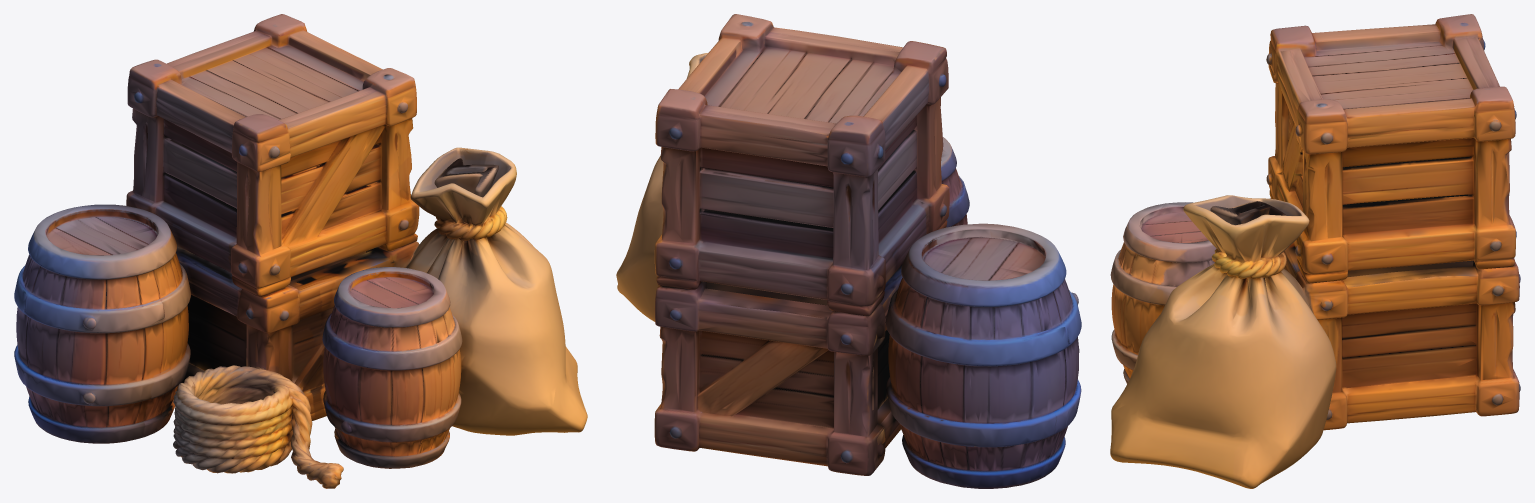
File: crates.glb
3 renders of one model, left to right at view 1: azimuth 30°, elevation 25°; view 2: azimuth 150°, elevation 25°; view 3: azimuth 270°, elevation 25°, orthographic. The views are drawn at different scales.
Parts seen in each view (by area): view 1: node_0; view 2: node_0; view 3: node_0.
Boxes of the visible parts, left/top/right/bottom form: node_0: left=14, top=14, right=587, bottom=488; node_0: left=616, top=14, right=1081, bottom=488; node_0: left=1110, top=14, right=1520, bottom=488.
Size of the model in its own units: 1 by 0.6265 by 0.731.
1 material, 1 textured.
